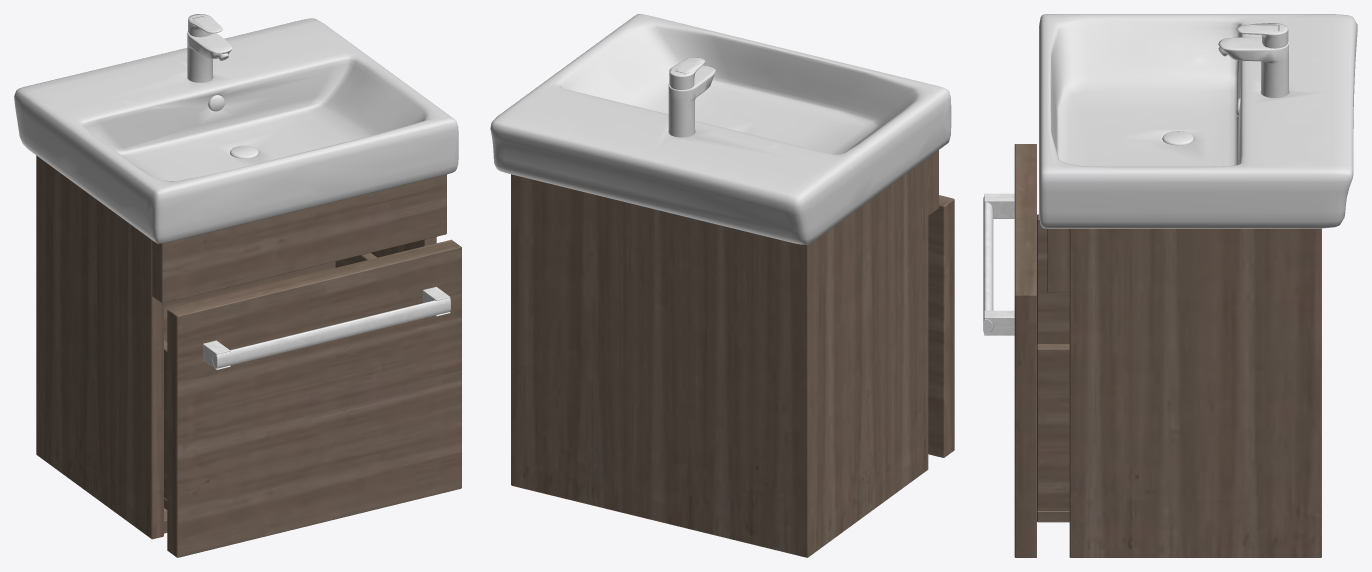
File: basin_stand_renviro.glb
3 views of the same model, side by side, from view 1: azimuth 30°, elevation 25°; view 2: azimuth 150°, elevation 25°; view 3: azimuth 270°, elevation 25° (orthographic). The views are drawn at different scales.
Visible parts, largest first — view 1: Washbasin-Stand_Washbasin-Stand_0; view 2: Washbasin-Stand_Washbasin-Stand_0; view 3: Washbasin-Stand_Washbasin-Stand_0.
Boxes of the visible parts, x1,y1,x2,y2 form: Washbasin-Stand_Washbasin-Stand_0: (14, 14, 461, 557); Washbasin-Stand_Washbasin-Stand_0: (490, 14, 954, 557); Washbasin-Stand_Washbasin-Stand_0: (983, 14, 1357, 557).
Size of the model in its own units: 481 by 630 by 471.
Materials: 1 (1 with a texture image).
